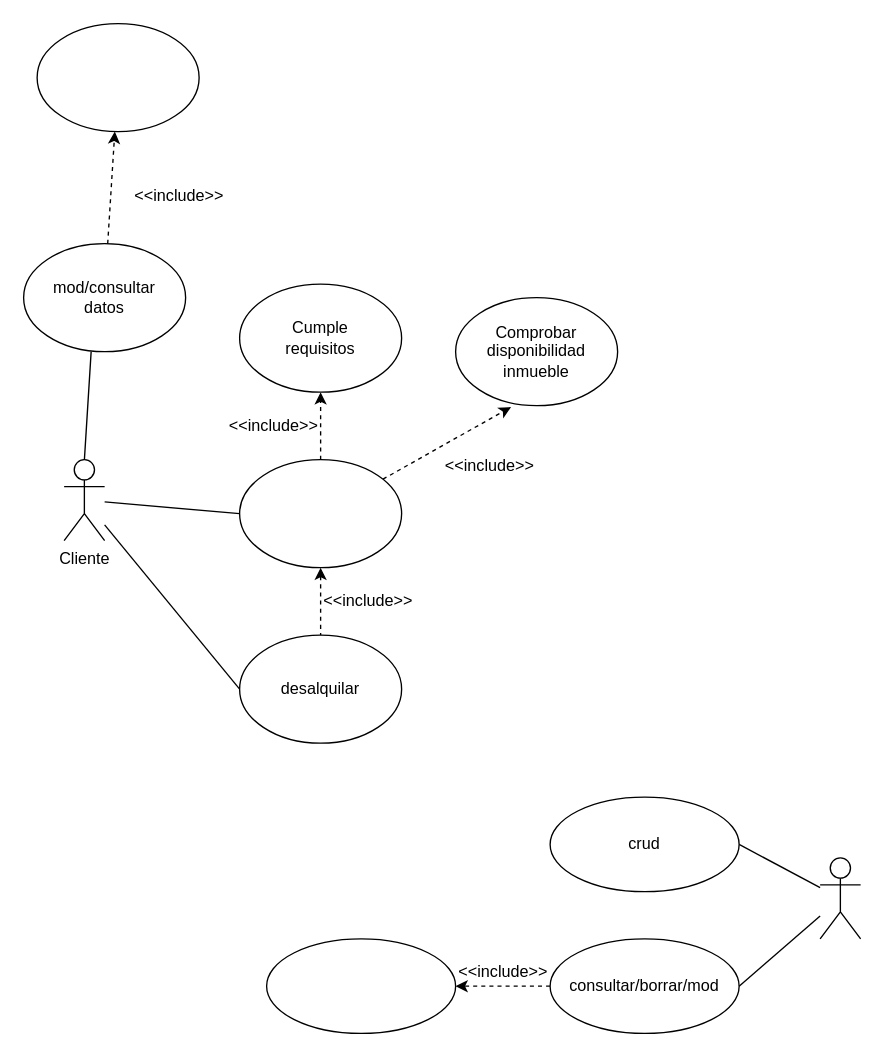
This 888x1057 diagram has some shape labels left out. Here are the shapes that lost their labels. From the top down, the box of each, then its label:
(36, 22, 199, 132): identificarse
(238, 458, 402, 568): alquilar
(819, 857, 861, 939): Gestor
(265, 938, 456, 1033): dar de alta
